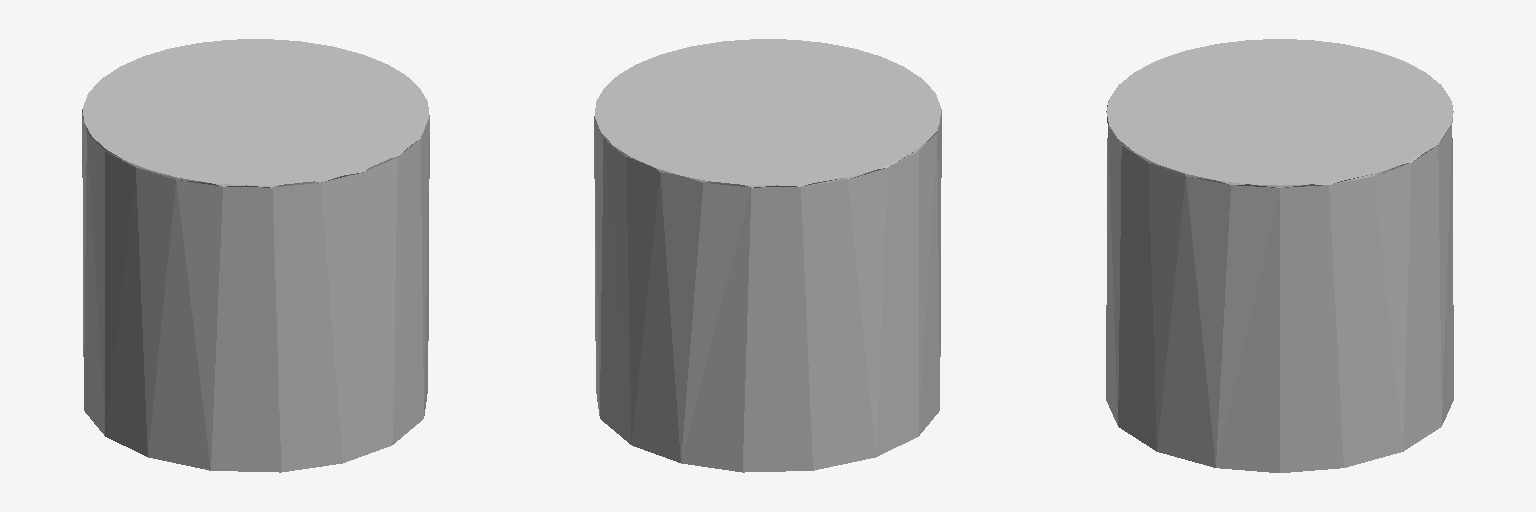
File: Torso.obj
3 renders of one model, left to right at view 1: azimuth 30°, elevation 25°; view 2: azimuth 150°, elevation 25°; view 3: azimuth 270°, elevation 25°, orthographic.
Parts seen in each view (by area): view 1: Default; view 2: Default; view 3: Default.
Boxes of the visible parts, x1=… form: Default: x1=82, y1=39, x2=429, y2=472; Default: x1=594, y1=39, x2=941, y2=472; Default: x1=1106, y1=39, x2=1453, y2=472.
Size of the model in its own units: 11.43 by 10.42 by 11.43.